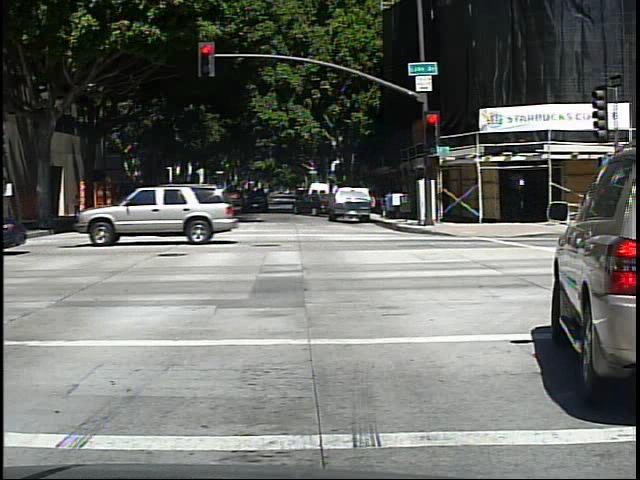person: (69, 187, 85, 223)
